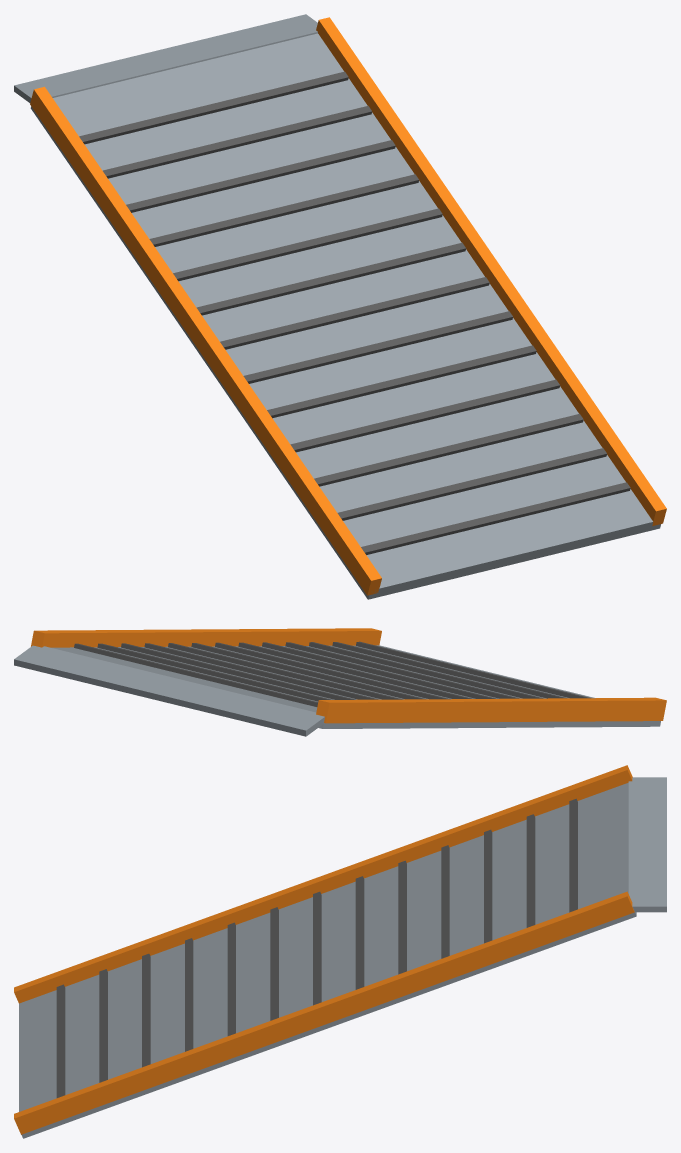
File: PRP_LoadingRamp.fbx
3 views of the same model, one above another, from view 1: azimuth 30°, elevation 25°; view 2: azimuth 150°, elevation 25°; view 3: azimuth 270°, elevation 25° (orthographic). The views are drawn at different scales.
Parts seen in each view (by area): view 1: PRP_LoadingRamp; view 2: PRP_LoadingRamp; view 3: PRP_LoadingRamp.
Boxes of the visible parts, bbox=[...] form: PRP_LoadingRamp: bbox=[14, 14, 666, 599]; PRP_LoadingRamp: bbox=[14, 628, 666, 736]; PRP_LoadingRamp: bbox=[14, 765, 666, 1138].
Size of the model in its own units: 4.05 by 3.5 by 8.51.
